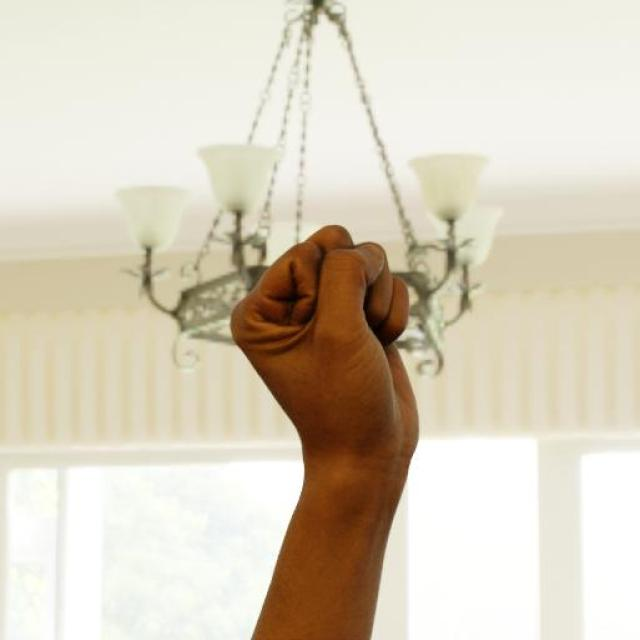S: (219, 220, 432, 476)
